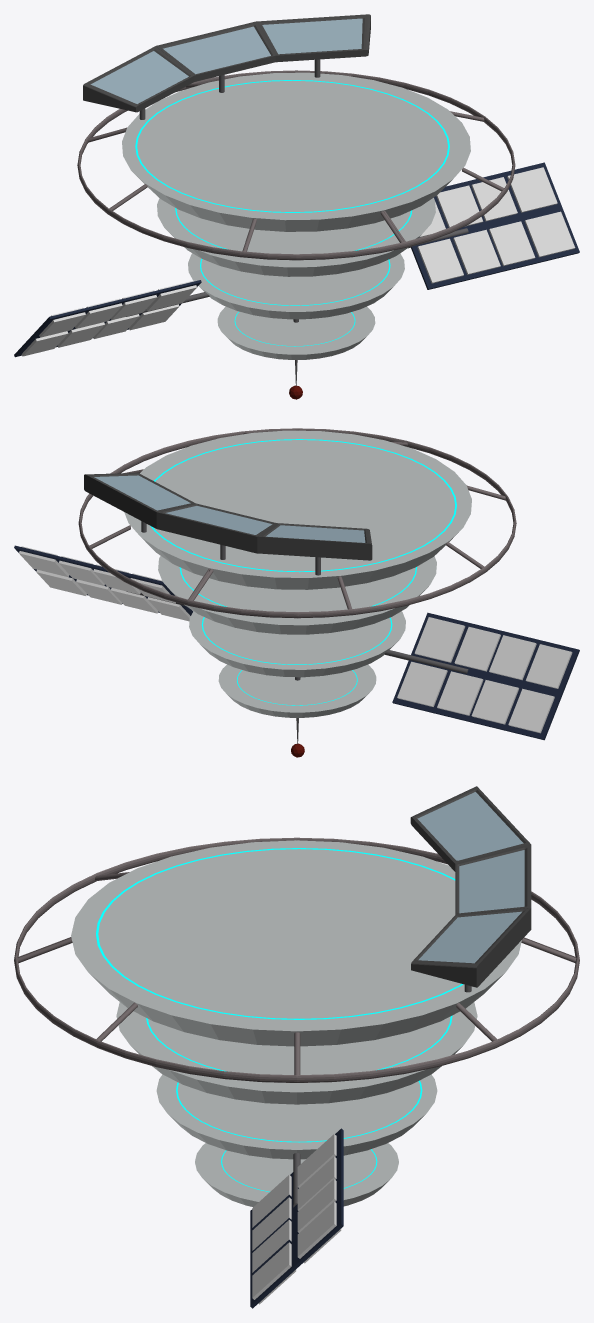
The model's file is The_1st_Platform.fbx.
The picture shows the model from 3 angles, top to bottom: view 1: azimuth 30°, elevation 25°; view 2: azimuth 150°, elevation 25°; view 3: azimuth 270°, elevation 25°; orthographic projection. The views are drawn at different scales.
Parts seen in each view (by area): view 1: platform_top, wing2, platform_top.002, platform_top.003, decoration_tour, platform_top.004, wing1, machine_on_Platform.001, machine_on_Platform, machin_on_Platform2, Platform_decoglow; view 2: platform_top, wing1, platform_top.002, platform_top.003, decoration_tour, platform_top.004, wing2, machine_on_Platform, machin_on_Platform2, machine_on_Platform.001, Platform_decoglow, wing_stick; view 3: platform_top, platform_top.002, platform_top.003, decoration_tour, wing2, platform_top.004, machine_on_Platform.001, machine_on_Platform, machin_on_Platform2, Platform_decoglow.
Part boxes in pixels (x1=…): platform_top: x1=122, y1=72, x2=470, y2=231; wing2: x1=411, y1=162, x2=579, y2=289; platform_top.002: x1=157, y1=198, x2=435, y2=276; platform_top.003: x1=188, y1=253, x2=404, y2=319; decoration_tour: x1=77, y1=70, x2=515, y2=260; platform_top.004: x1=217, y1=306, x2=375, y2=359; wing1: x1=14, y1=280, x2=201, y2=357; machine_on_Platform.001: x1=256, y1=14, x2=370, y2=62; machine_on_Platform: x1=83, y1=46, x2=194, y2=112; machin_on_Platform2: x1=156, y1=21, x2=275, y2=81; Platform_decoglow: x1=135, y1=80, x2=449, y2=212; platform_top: x1=124, y1=430, x2=471, y2=589; wing1: x1=392, y1=612, x2=579, y2=740; platform_top.002: x1=158, y1=556, x2=436, y2=634; platform_top.003: x1=189, y1=611, x2=405, y2=677; decoration_tour: x1=78, y1=428, x2=516, y2=618; platform_top.004: x1=218, y1=664, x2=376, y2=717; wing2: x1=14, y1=545, x2=193, y2=621; machine_on_Platform: x1=257, y1=523, x2=372, y2=560; machin_on_Platform2: x1=156, y1=503, x2=276, y2=553; machine_on_Platform.001: x1=84, y1=473, x2=194, y2=528; Platform_decoglow: x1=150, y1=439, x2=456, y2=572; wing_stick: x1=126, y1=591, x2=468, y2=673; platform_top: x1=71, y1=840, x2=521, y2=1046; platform_top.002: x1=116, y1=1002, x2=477, y2=1104; platform_top.003: x1=156, y1=1074, x2=437, y2=1159; decoration_tour: x1=14, y1=837, x2=579, y2=1082; wing2: x1=250, y1=1128, x2=343, y2=1308; platform_top.004: x1=195, y1=1143, x2=398, y2=1206; machine_on_Platform.001: x1=411, y1=908, x2=531, y2=987; machine_on_Platform: x1=410, y1=786, x2=530, y2=871; machin_on_Platform2: x1=455, y1=844, x2=531, y2=914; Platform_decoglow: x1=96, y1=848, x2=463, y2=1019.
Bounding box in the file's own units: 391 × 211 × 280.
